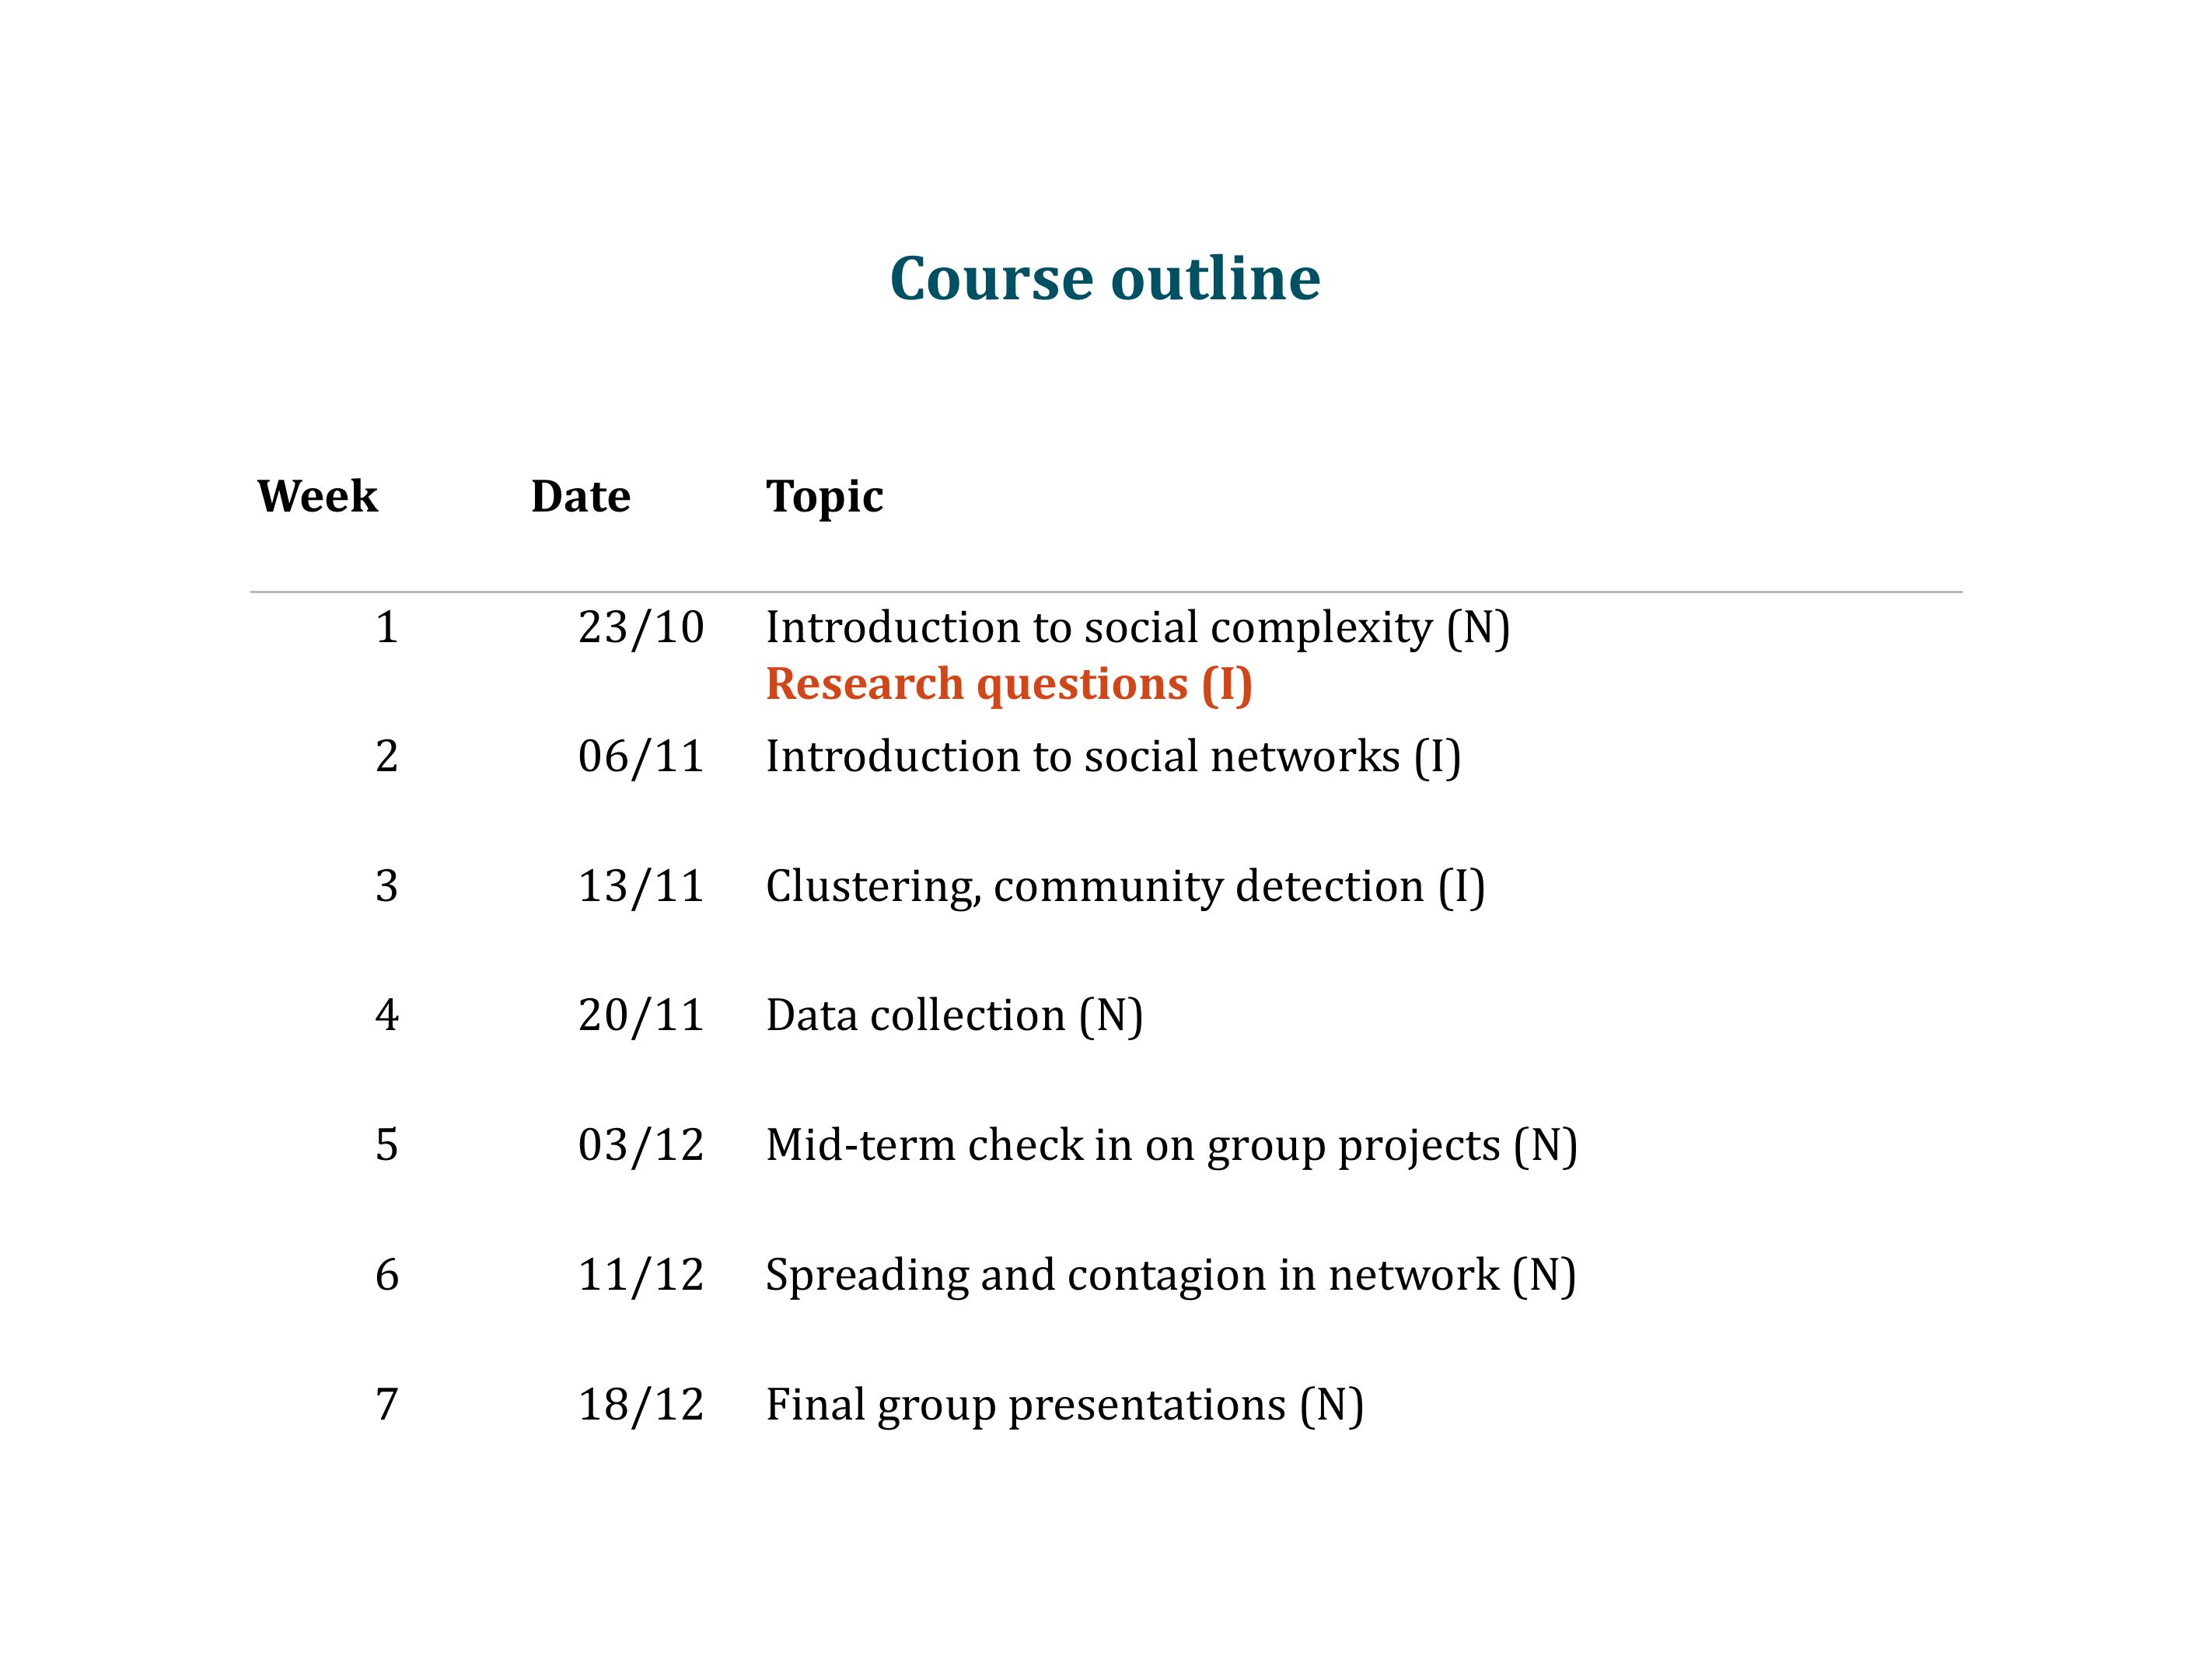Title: (877, 239, 1344, 331)
